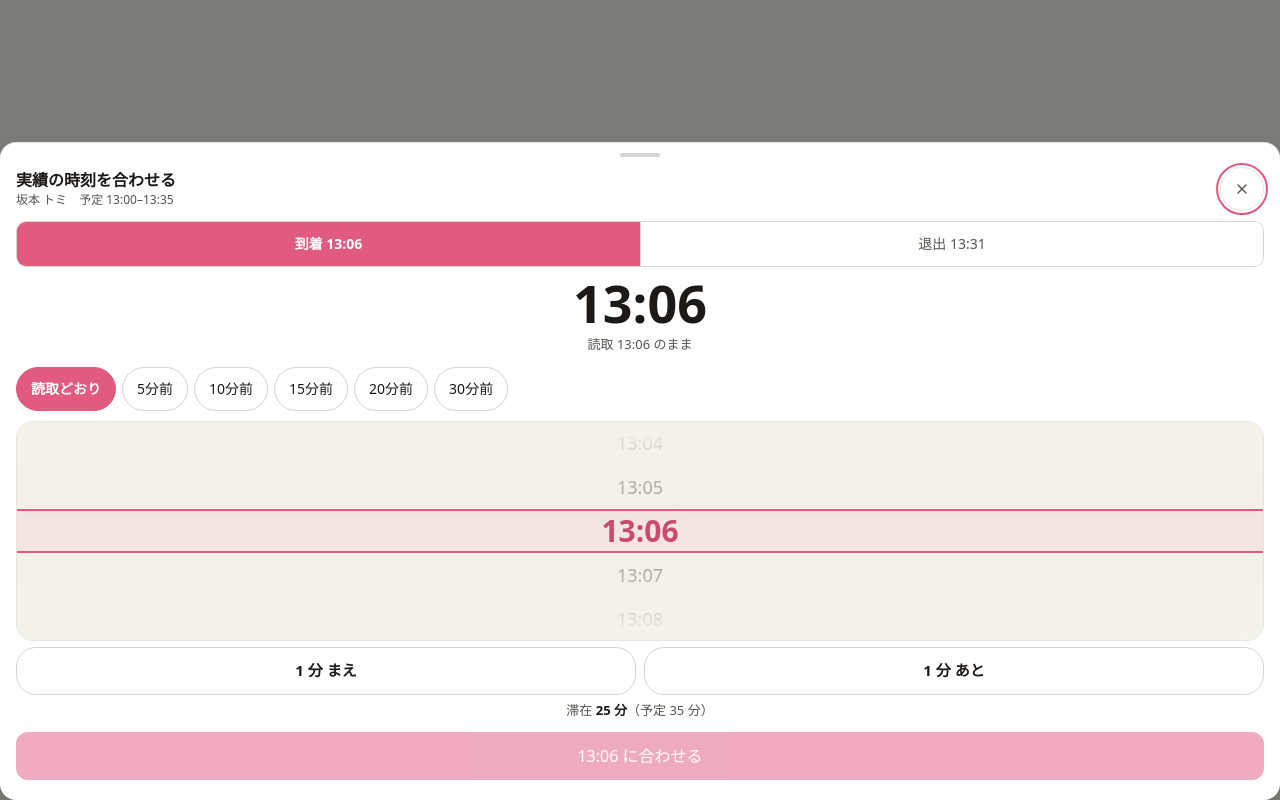
Test: ActualTimeSheet — 到着 › 退出の実績があるときは滞在を出す (予定と同じなら「予定どおり」)
(page scrolled)
Expected: the element with test id "actual-time-summary" reads "滞在 25 分（予定 35 分）", x1=566 y1=700 x2=714 y2=718
Expected: the element with test id "actual-time-summary" does not show "予定どおり", x1=566 y1=700 x2=714 y2=718
Click the button "10分前" at (231, 388), box x1=194 y1=366 x2=268 y2=410
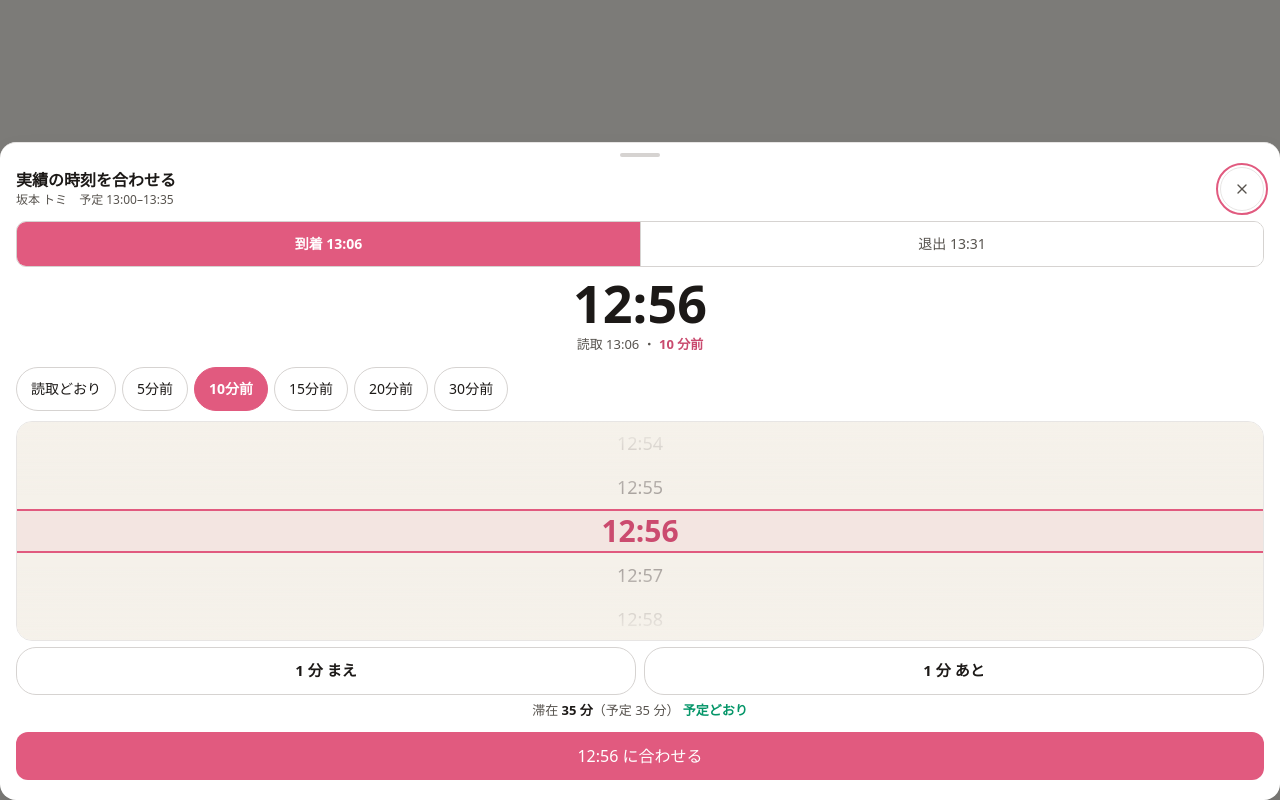
Now the element with test id "actual-time-summary" reads "滞在 35 分（予定 35 分） 予定どおり", box x1=532 y1=700 x2=748 y2=718
